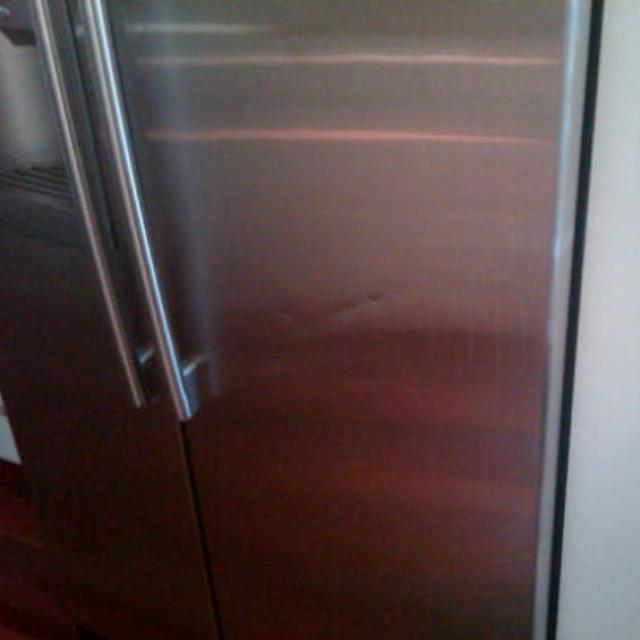dents: (266, 280, 404, 360)
